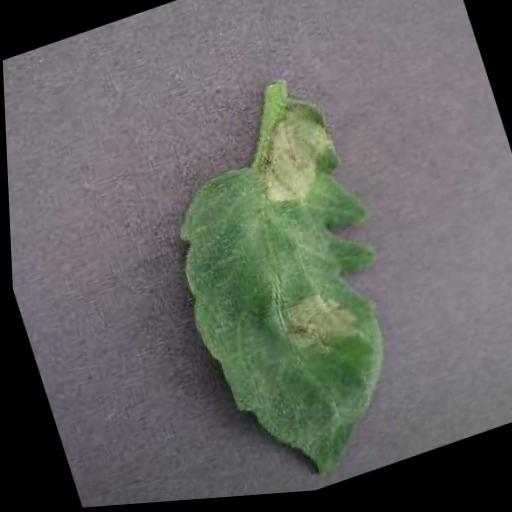Late Blight: (134, 86, 437, 504)
